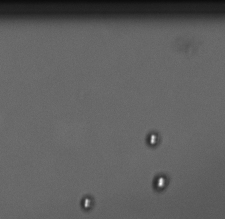Living Cell: (152, 174, 170, 191), (81, 195, 94, 210), (147, 132, 160, 146)
